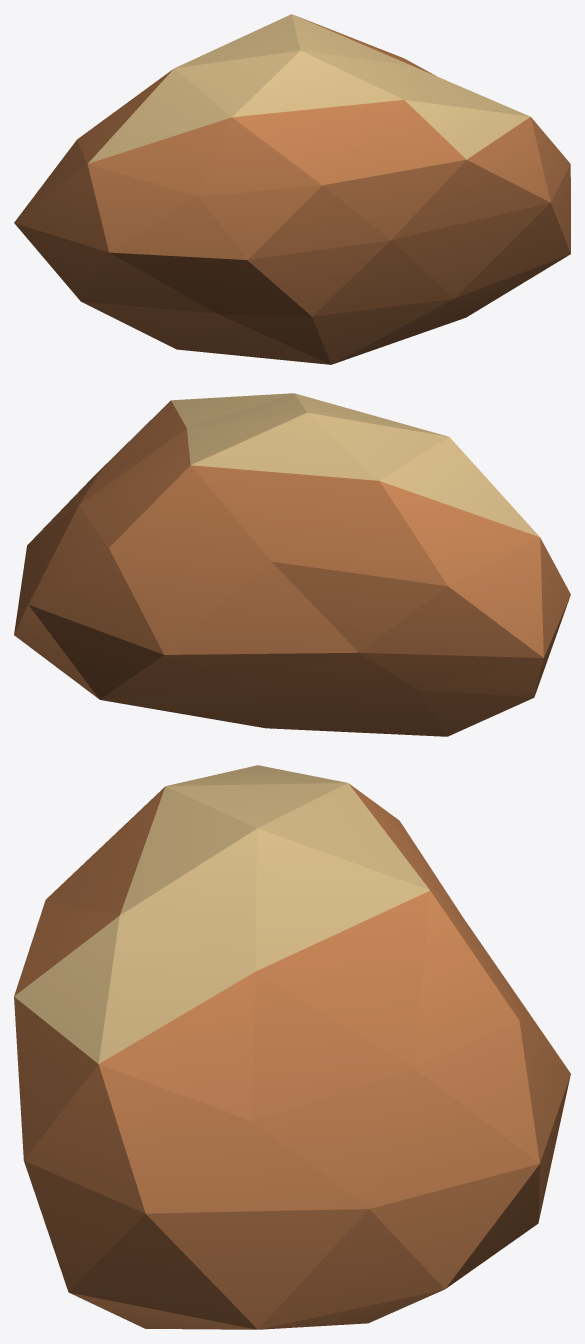
Rendered from rock_sandstone_01.fbx.
3 views of the same model, one above another, from view 1: azimuth 30°, elevation 25°; view 2: azimuth 150°, elevation 25°; view 3: azimuth 270°, elevation 25° (orthographic). The views are drawn at different scales.
Visible parts, largest first — view 1: rock_sandstone_01_LOD0; view 2: rock_sandstone_01_LOD0; view 3: rock_sandstone_01_LOD0.
Boxes of the visible parts, x1,y1,x2,y2 form: rock_sandstone_01_LOD0: [14, 14, 570, 364]; rock_sandstone_01_LOD0: [14, 393, 570, 736]; rock_sandstone_01_LOD0: [14, 765, 570, 1329].
Size of what is drawn, in the model's own units: 1.64 by 0.9307 by 1.08.
1 material, 1 textured.
